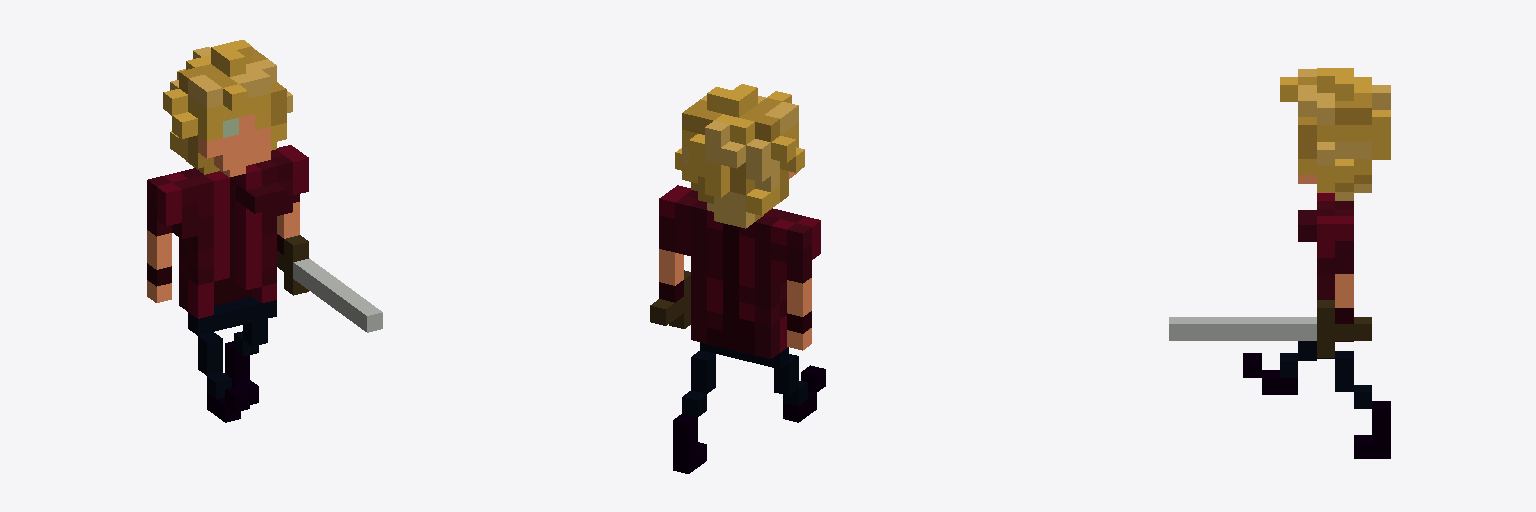
3 views of the same model, side by side, from view 1: azimuth 30°, elevation 25°; view 2: azimuth 150°, elevation 25°; view 3: azimuth 270°, elevation 25° (orthographic).
Parts seen in each view (by area): view 1: SwingingBoyCharacter-2; view 2: SwingingBoyCharacter-2; view 3: SwingingBoyCharacter-2.
Boxes of the visible parts, x1,y1,x2,y2 form: SwingingBoyCharacter-2: [147, 40, 382, 422]; SwingingBoyCharacter-2: [650, 84, 825, 473]; SwingingBoyCharacter-2: [1169, 68, 1390, 458].
Size of the model in its own units: 9 by 22 by 12.
Materials: 1 (1 with a texture image).